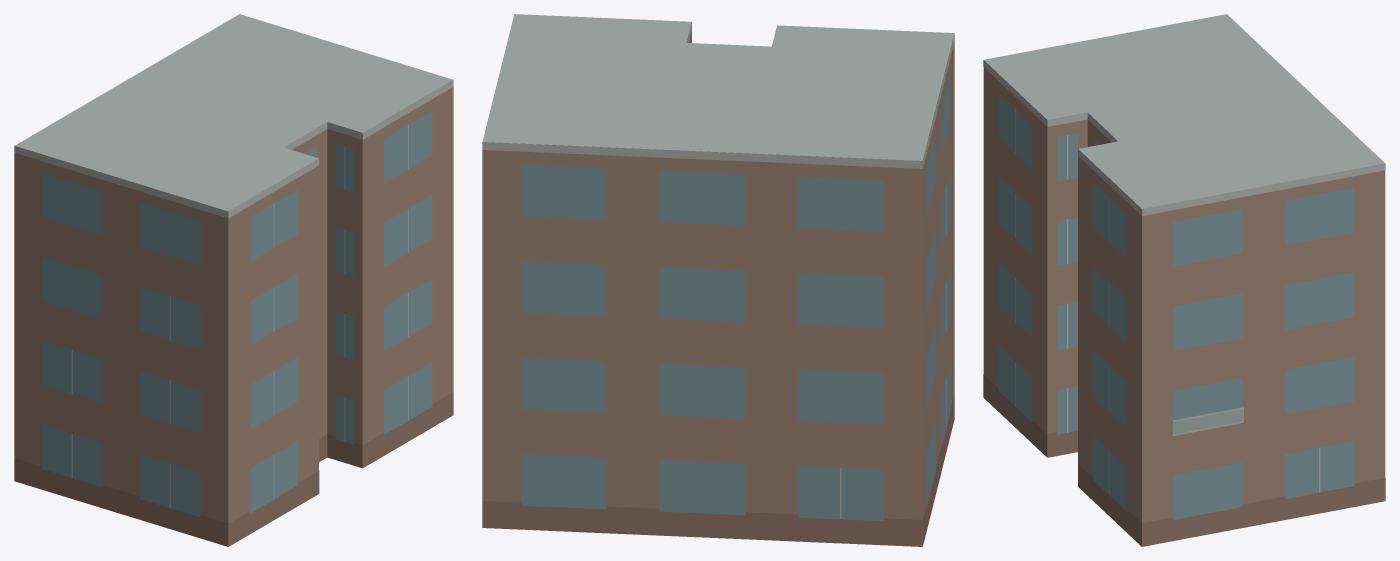
Rendered from survey-upis-32910415.glb.
3 renders of one model, left to right at view 1: azimuth 30°, elevation 25°; view 2: azimuth 150°, elevation 25°; view 3: azimuth 270°, elevation 25°, orthographic. The views are drawn at different scales.
Parts seen in each view (by area): view 1: survey-upis-32910415.tmp; view 2: survey-upis-32910415.tmp; view 3: survey-upis-32910415.tmp.
Boxes of the visible parts, <box> form: survey-upis-32910415.tmp: <box>14,14,453,546</box>; survey-upis-32910415.tmp: <box>482,14,954,546</box>; survey-upis-32910415.tmp: <box>983,14,1385,546</box>.
Bounding box in the file's own units: 14.63 × 11.8 × 12.74.
